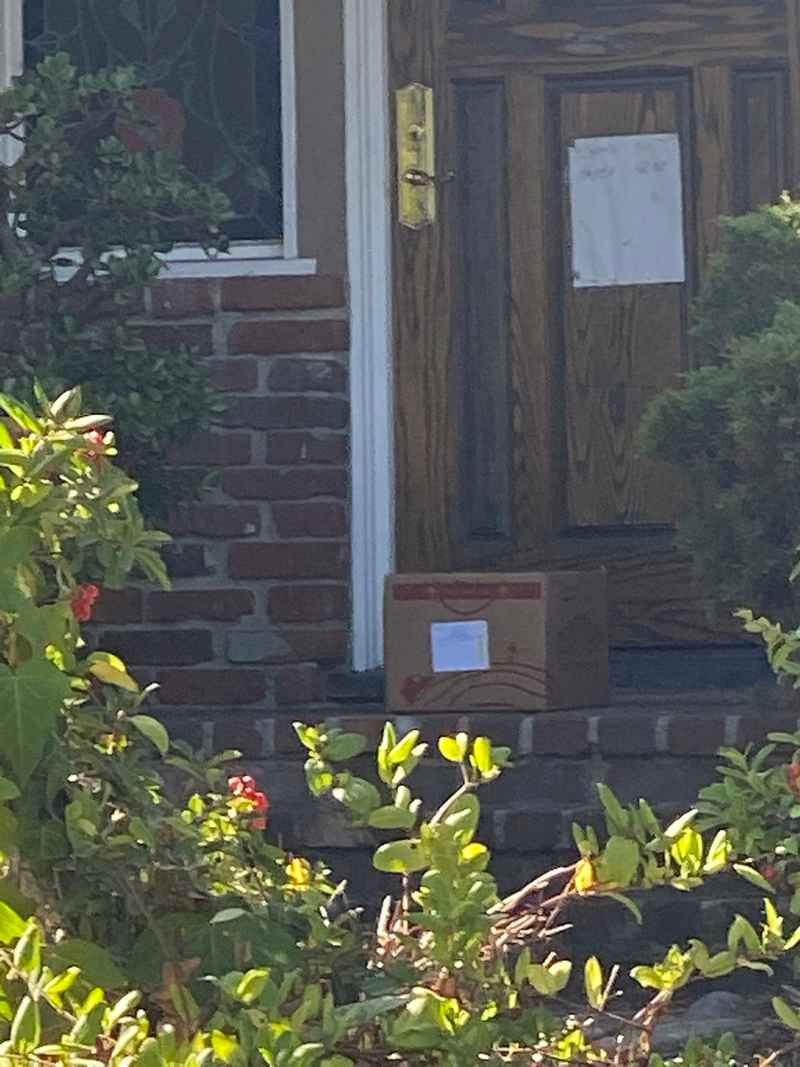package: (380, 570, 615, 714)
